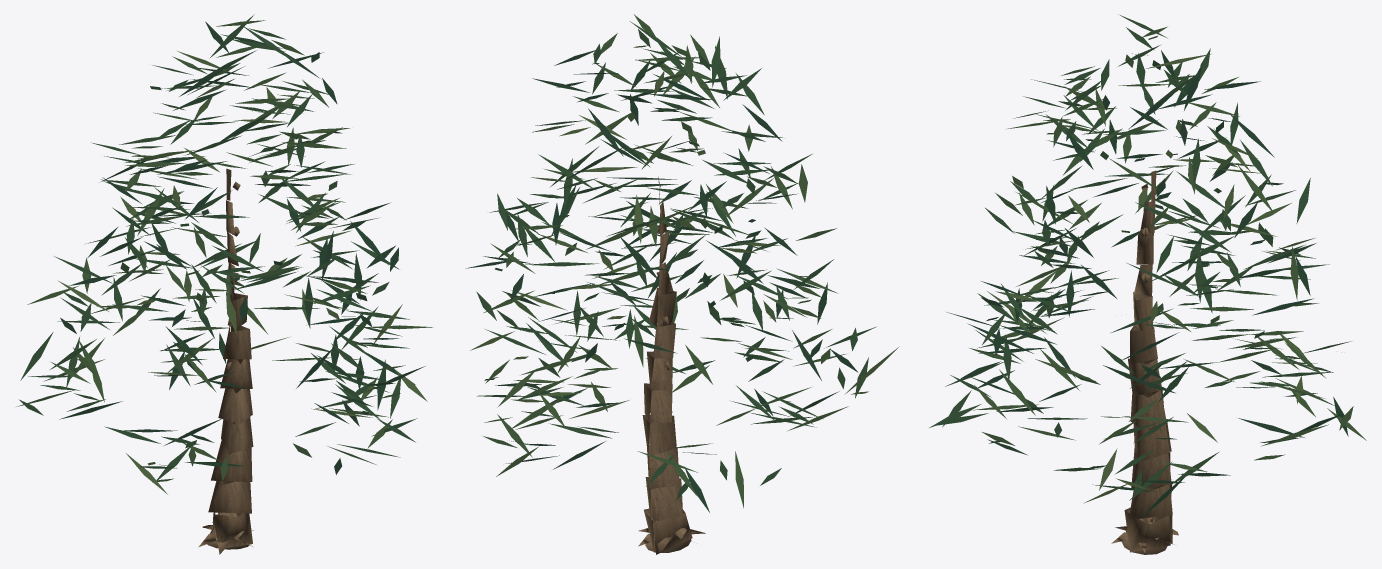
The model's file is pine-tree.glb.
The picture shows the model from 3 angles, left to right: view 1: azimuth 30°, elevation 25°; view 2: azimuth 150°, elevation 25°; view 3: azimuth 270°, elevation 25°; orthographic projection.
Visible parts, largest first — view 1: 山地松 · 立体叶冠, 山地松 · 树干与枝系; view 2: 山地松 · 立体叶冠, 山地松 · 树干与枝系; view 3: 山地松 · 立体叶冠, 山地松 · 树干与枝系.
Boxes of the visible parts, bbox=[...] form: 山地松 · 立体叶冠: bbox=[16, 14, 432, 494]; 山地松 · 树干与枝系: bbox=[198, 168, 253, 554]; 山地松 · 立体叶冠: bbox=[465, 14, 899, 512]; 山地松 · 树干与枝系: bbox=[638, 176, 705, 554]; 山地松 · 立体叶冠: bbox=[929, 15, 1366, 519]; 山地松 · 树干与枝系: bbox=[1111, 170, 1178, 554].
Size of the model in its own units: 7.02 by 9.44 by 7.15.
5 materials, 1 textured.
